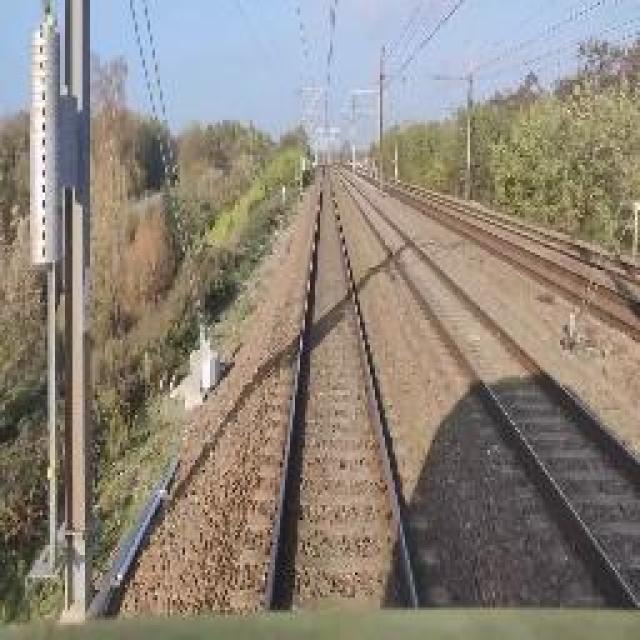rail: (238, 164, 455, 616)
